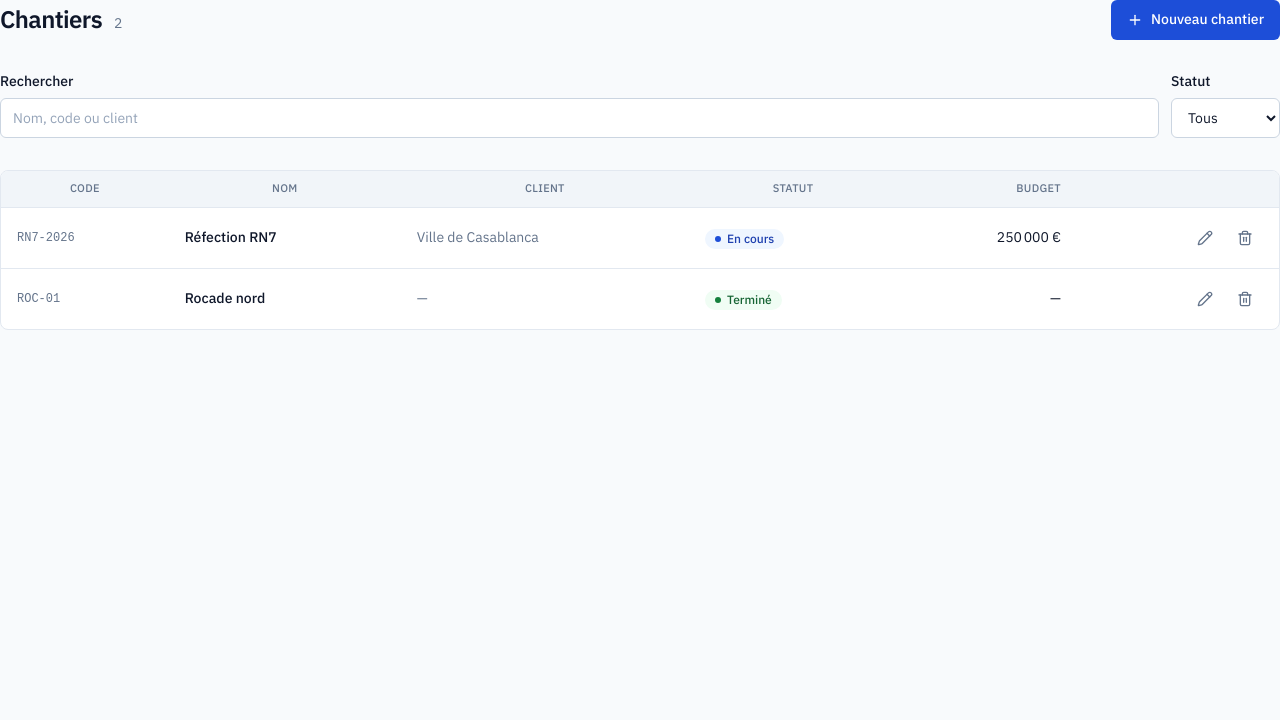
Test: WorksiteListPage › opens the create drawer, and it starts empty
The width and height of the screenshot is (1280, 720).
Click the button "Nouveau chantier" at (1196, 20), box [1111, 0, 1279, 40]
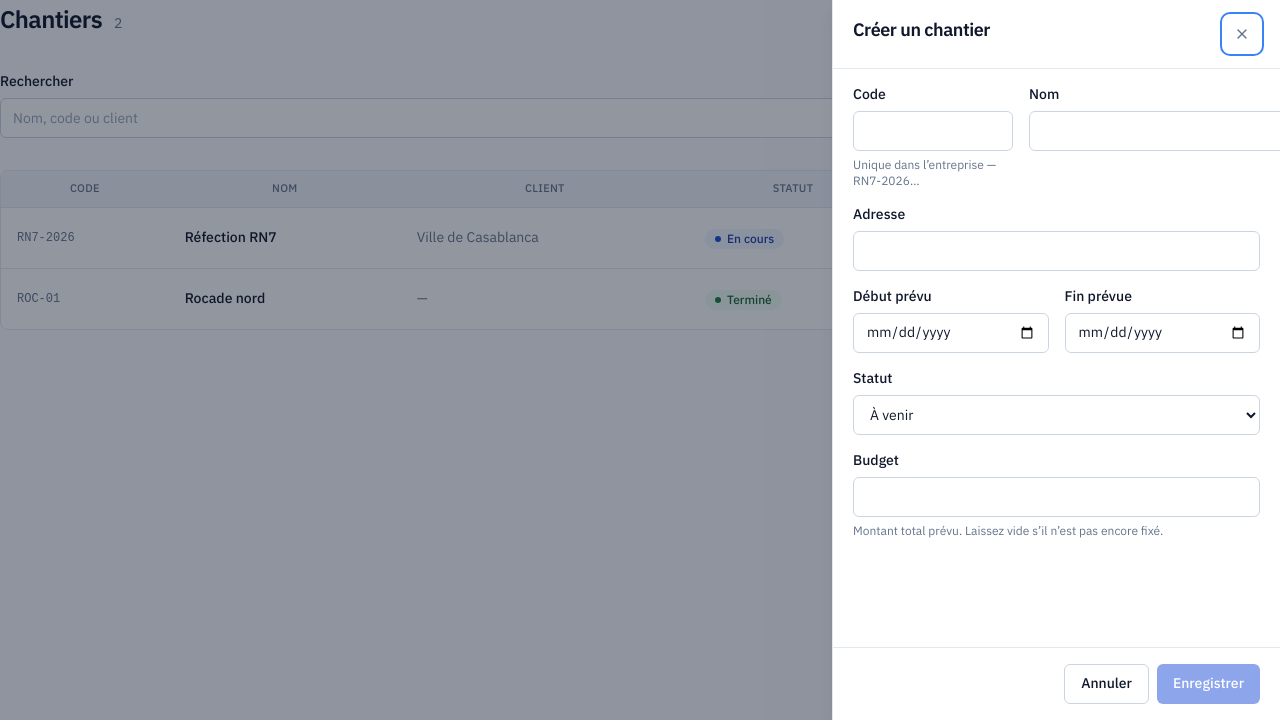
Check: the heading "Créer un chantier" is shown, box [853, 16, 990, 44]
Check: the field labelled "Code" is empty, box [853, 111, 1013, 151]
